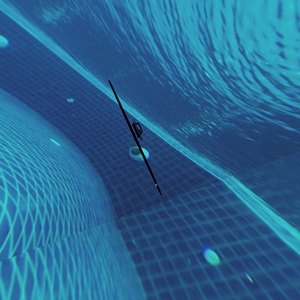circle: (89, 76, 190, 207)
